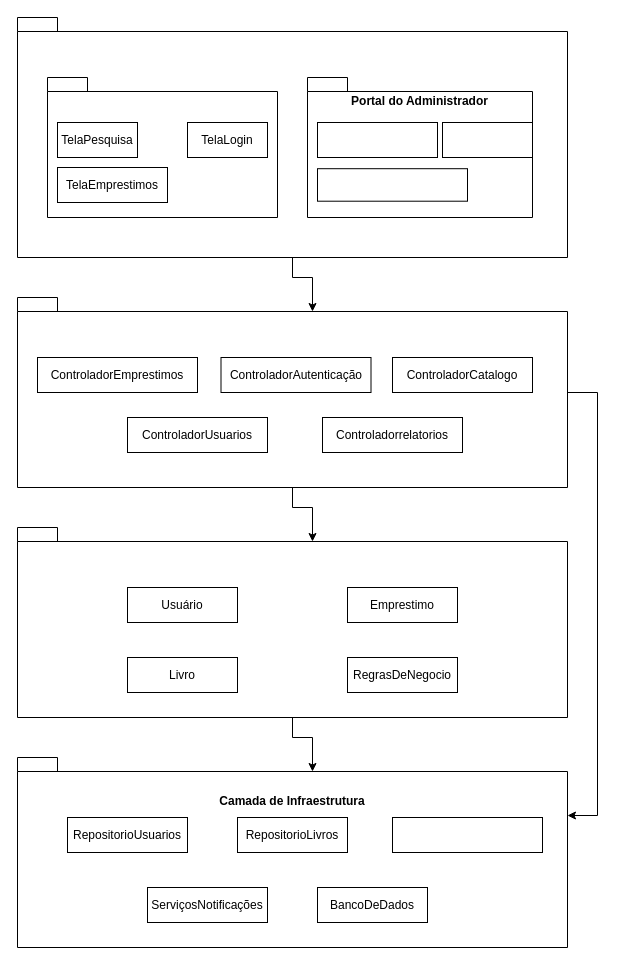
The diagram is 623 pixels wide and 965 high, and some of its shapes have lost their labels. The box of each missing label's shape, as (x1, y1, x2, y2) in pixels:
Apresentação: (16, 16, 568, 258)
Camada de Aplicação: (16, 296, 568, 488)
Camada De Domínio: (16, 526, 568, 718)
Portal do Usuário: (46, 76, 278, 218)
RepositorioEmprestimos: (392, 816, 542, 852)
TekaGerenciarLivros: (316, 122, 438, 158)
TelaGerenciarUsuarios: (316, 168, 468, 201)
TelaRelatorios: (442, 122, 532, 158)
